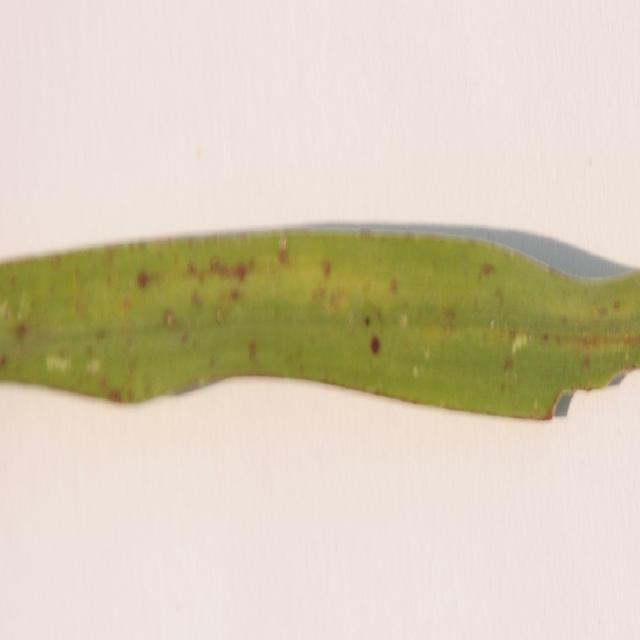Leafsmut: (44, 353, 73, 373), (328, 289, 352, 312), (16, 288, 32, 318), (309, 287, 328, 307), (510, 332, 528, 353), (441, 312, 458, 331), (620, 332, 639, 349), (277, 242, 290, 264), (0, 298, 11, 321), (163, 310, 177, 328), (369, 335, 382, 354), (136, 272, 151, 288), (122, 386, 137, 402), (190, 290, 202, 309), (86, 358, 101, 373), (234, 264, 248, 279), (14, 322, 27, 338), (321, 259, 332, 277), (494, 288, 505, 306), (122, 296, 134, 312), (214, 307, 225, 324), (481, 263, 495, 276), (248, 339, 258, 357), (503, 357, 515, 372), (194, 268, 206, 282), (186, 261, 197, 276), (389, 278, 399, 294), (358, 227, 374, 237), (126, 359, 136, 375), (531, 398, 541, 413), (111, 390, 123, 402), (95, 328, 107, 340), (582, 354, 592, 368), (230, 289, 240, 302), (399, 314, 409, 327), (207, 354, 216, 368), (197, 376, 208, 387), (508, 329, 518, 341), (548, 266, 560, 276), (412, 365, 421, 378), (180, 332, 189, 345), (84, 345, 93, 357), (598, 306, 608, 316), (500, 382, 509, 393), (0, 354, 7, 368), (424, 348, 432, 360), (489, 318, 497, 330), (364, 315, 372, 326), (560, 316, 570, 324), (614, 300, 622, 309), (541, 333, 550, 341)
